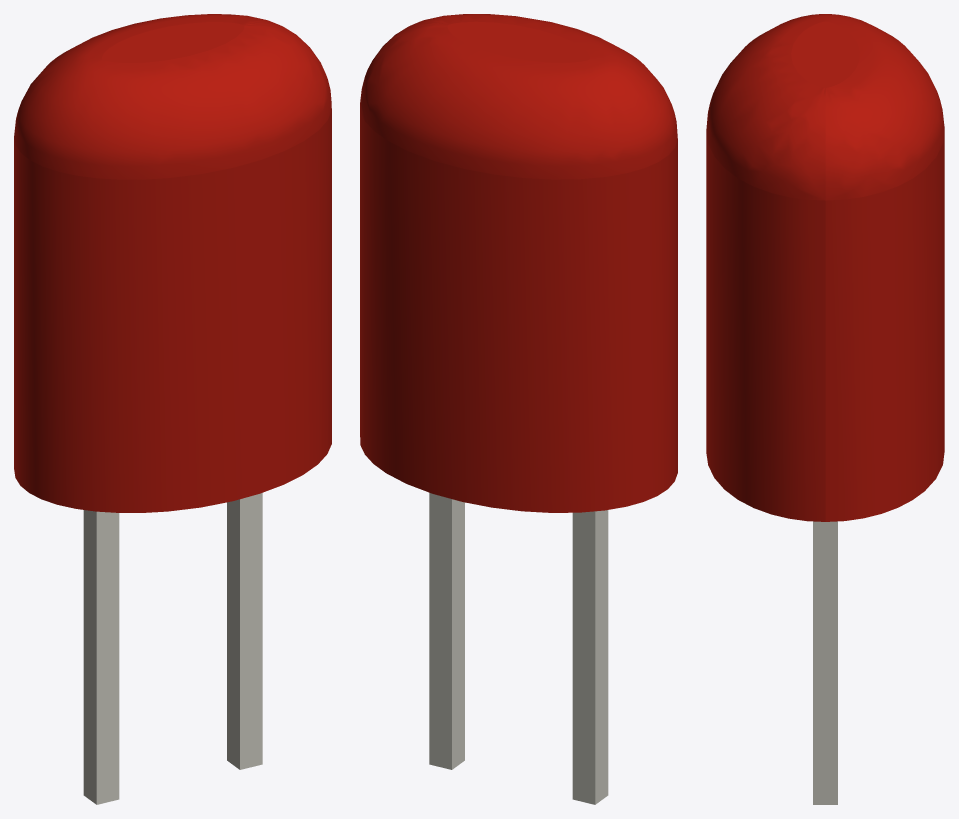
File: kc-led_oval_w5.2mm_h3.8mm.glb
3 views of the same model, side by side, from view 1: azimuth 30°, elevation 25°; view 2: azimuth 150°, elevation 25°; view 3: azimuth 270°, elevation 25° (orthographic). The views are drawn at different scales.
Visible parts, largest first — view 1: 0.4166666666666667_0_0_0, 0.6666666666666666_0.6666666666666666_0.5833333333333334_0.8; view 2: 0.4166666666666667_0_0_0, 0.6666666666666666_0.6666666666666666_0.5833333333333334_0.8; view 3: 0.4166666666666667_0_0_0, 0.6666666666666666_0.6666666666666666_0.5833333333333334_0.8.
Boxes of the visible parts, x1,y1,x2,y2 form: 0.4166666666666667_0_0_0: [14, 14, 331, 512]; 0.6666666666666666_0.6666666666666666_0.5833333333333334_0.8: [83, 493, 262, 804]; 0.4166666666666667_0_0_0: [360, 14, 677, 512]; 0.6666666666666666_0.6666666666666666_0.5833333333333334_0.8: [429, 492, 608, 804]; 0.4166666666666667_0_0_0: [706, 14, 944, 521]; 0.6666666666666666_0.6666666666666666_0.5833333333333334_0.8: [813, 521, 837, 804].
Bounding box in the file's own units: 0.5198 × 1.25 × 0.3799.
